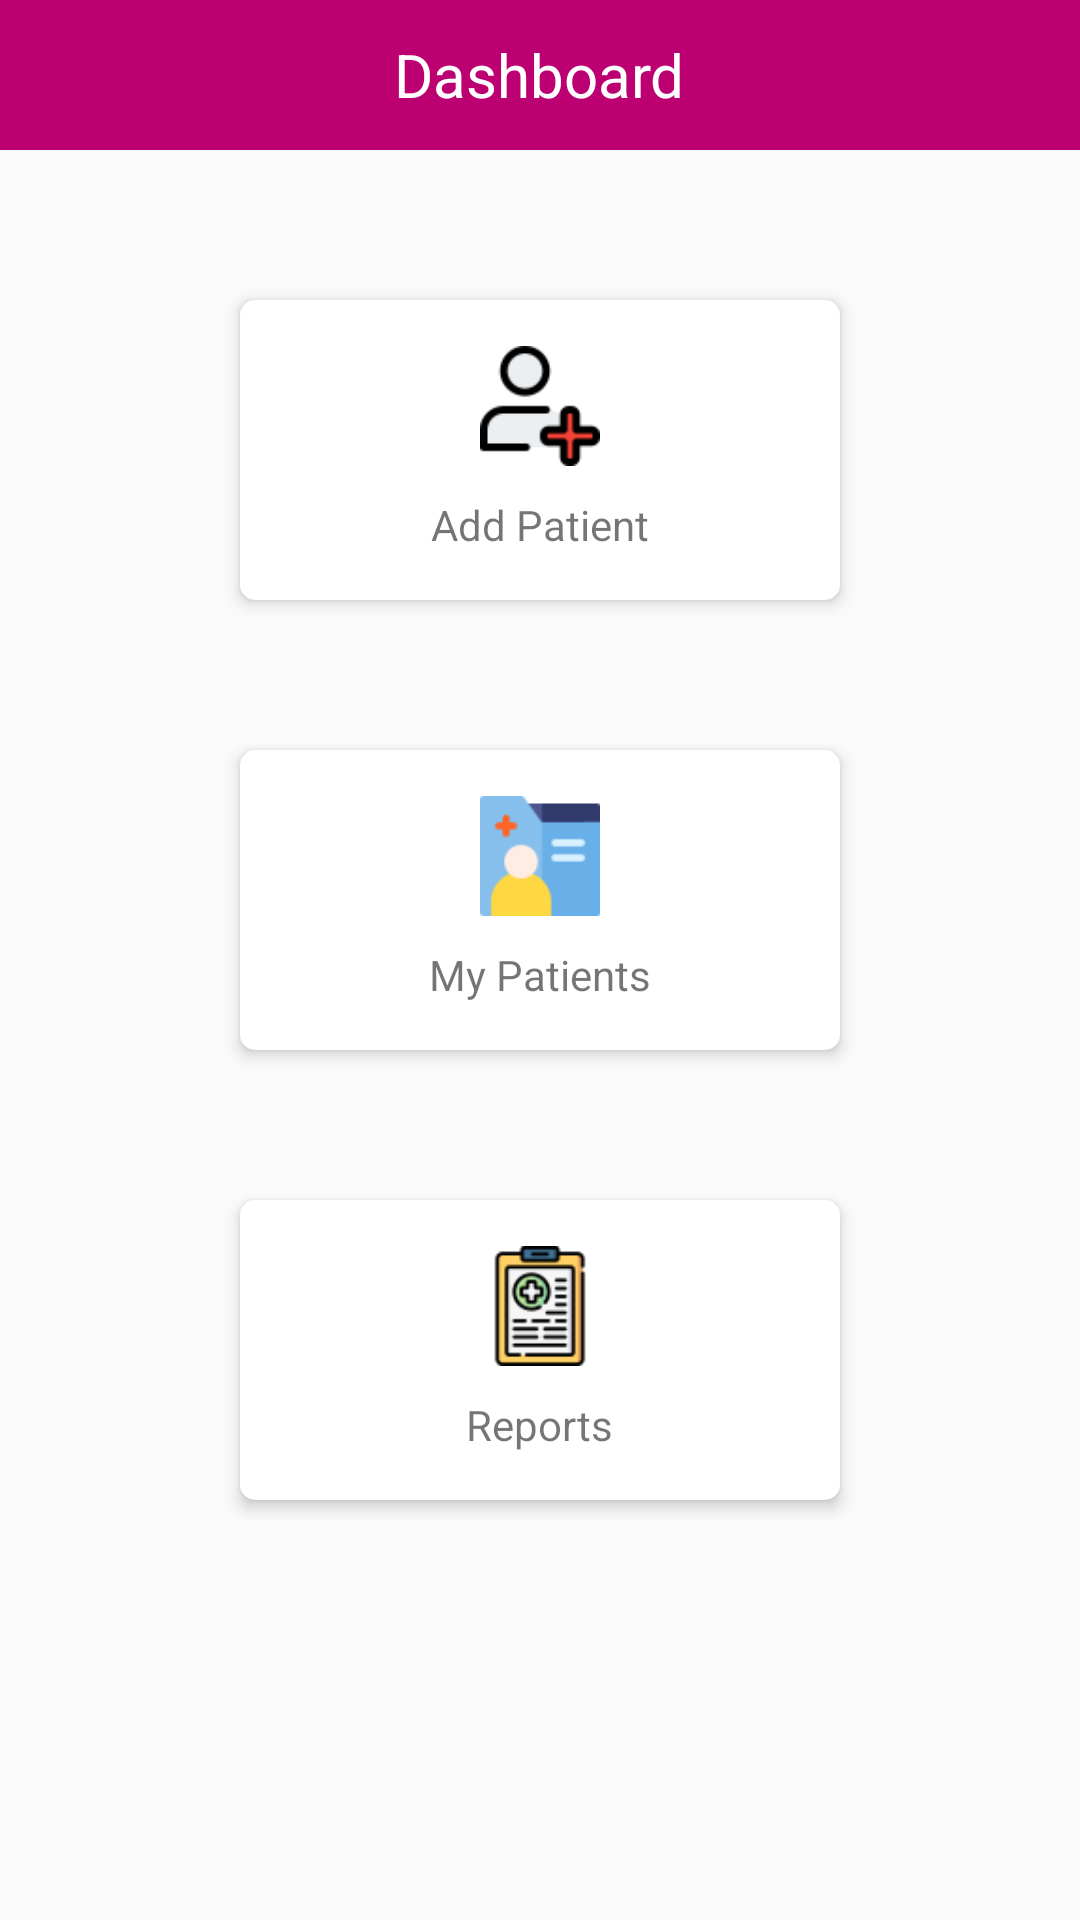

Icon bounding boxes for this 1080x1920 phone screenshot, format (x1, y1, x2, y2):
record: (494, 1246, 586, 1366)
